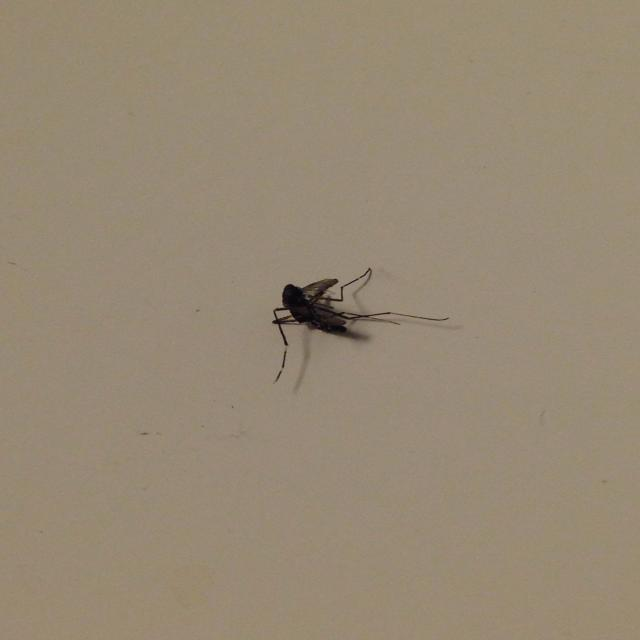albopictus: (254, 257, 451, 392)
